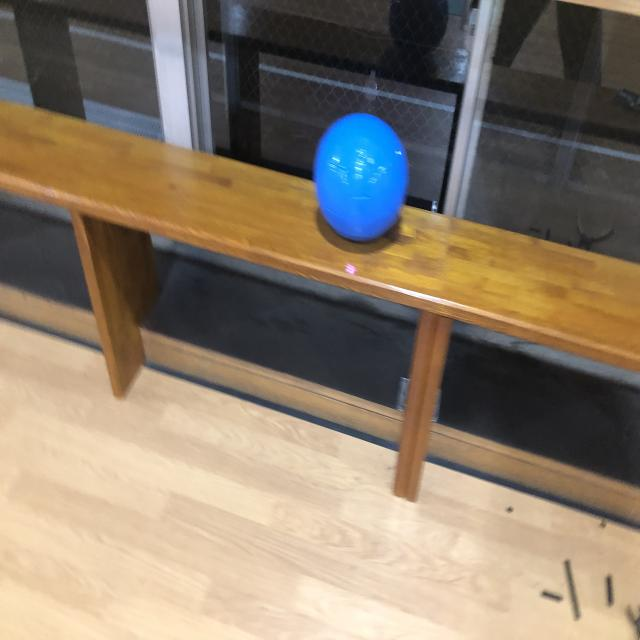blue_ball: (319, 112, 408, 246)
